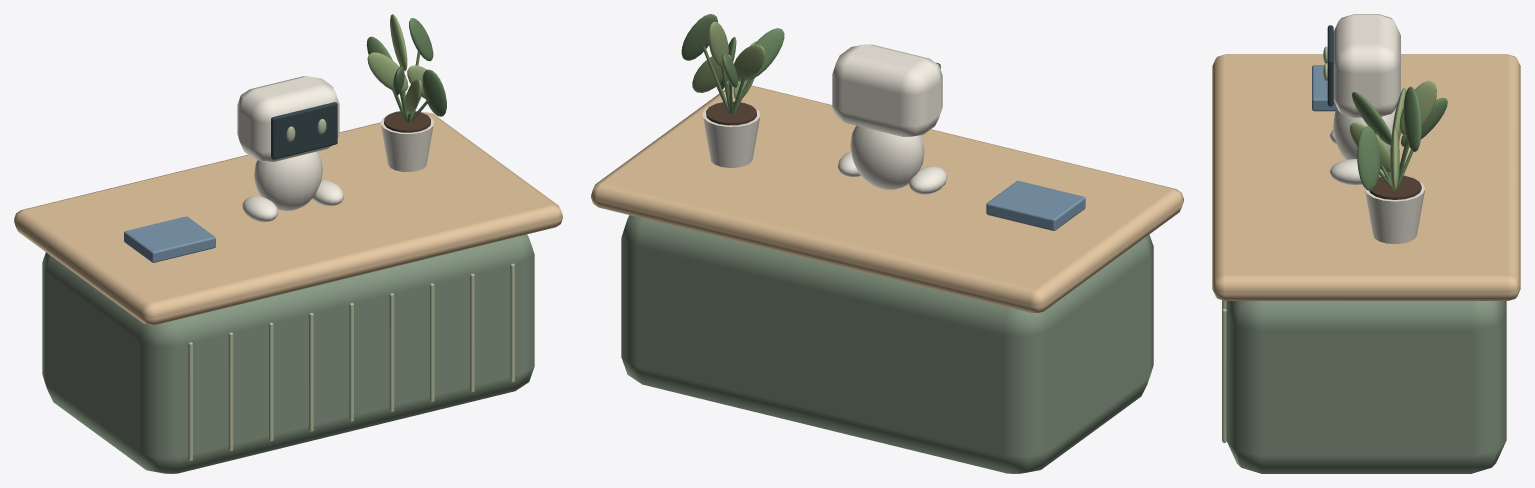
Rendered from console.glb.
The picture shows the model from 3 angles, left to right: view 1: azimuth 30°, elevation 25°; view 2: azimuth 150°, elevation 25°; view 3: azimuth 270°, elevation 25°; orthographic projection. The views are drawn at different scales.
Parts seen in each view (by area): view 1: Console_sage, Console_oakLight, Console_cream, Console_sageLight, Console_blue, Console_charcoal, Console_leaf, Console_leafLight, Console_hair; view 2: Console_sage, Console_oakLight, Console_cream, Console_blue, Console_leaf, Console_leafLight, Console_hair; view 3: Console_oakLight, Console_sage, Console_cream, Console_leaf, Console_leafLight, Console_sageLight, Console_hair, Console_blue, Console_charcoal.
Boxes of the visible parts, <box> form: Console_sage: <box>42,234,534,473</box>; Console_oakLight: <box>14,112,562,325</box>; Console_cream: <box>237,76,434,222</box>; Console_sageLight: <box>188,119,514,461</box>; Console_blue: <box>124,216,215,262</box>; Console_charcoal: <box>271,102,337,159</box>; Console_leaf: <box>366,18,446,122</box>; Console_leafLight: <box>367,14,426,114</box>; Console_hair: <box>384,111,430,132</box>; Console_sage: <box>621,215,1153,473</box>; Console_oakLight: <box>591,85,1183,313</box>; Console_cream: <box>702,44,947,194</box>; Console_blue: <box>986,181,1085,230</box>; Console_leaf: <box>681,14,784,113</box>; Console_leafLight: <box>692,21,765,99</box>; Console_hair: <box>706,101,756,125</box>; Console_oakLight: <box>1212,54,1520,300</box>; Console_sage: <box>1226,301,1506,473</box>; Console_cream: <box>1330,14,1424,244</box>; Console_leaf: <box>1352,86,1447,190</box>; Console_leafLight: <box>1350,80,1436,191</box>; Console_sageLight: <box>1222,46,1327,442</box>; Console_hair: <box>1369,175,1421,199</box>; Console_blue: <box>1312,65,1336,111</box>; Console_charcoal: <box>1327,25,1333,106</box>.
Size of the model in its own units: 2.3 by 1.73 by 1.3.
